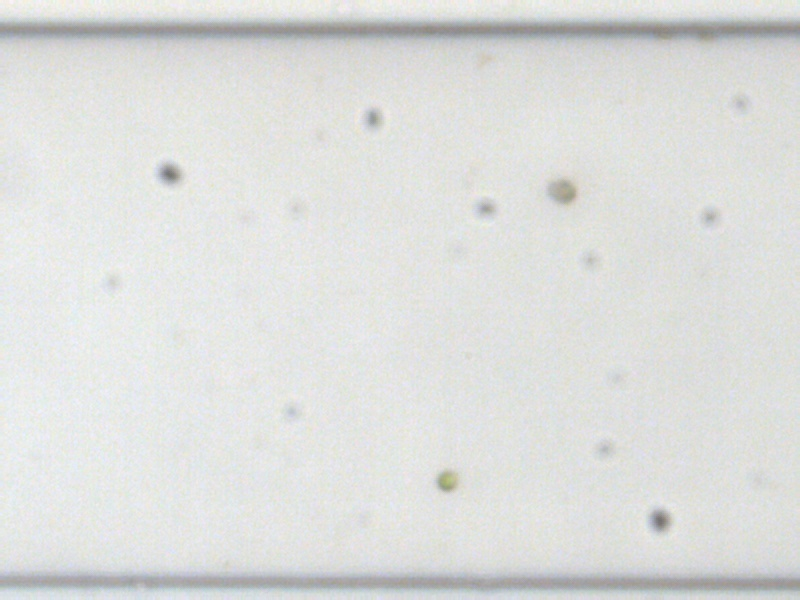Chlorella: (435, 466, 458, 493)
Dunaliella salina: (542, 178, 575, 202)
